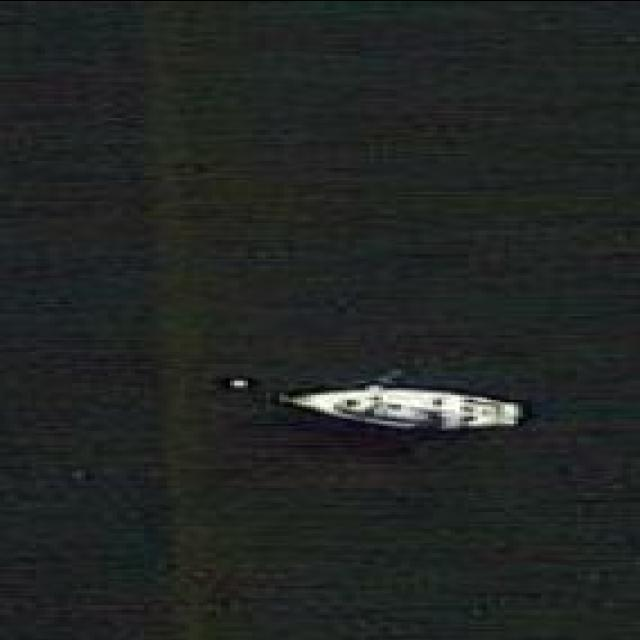ship: (270, 386, 528, 434)
